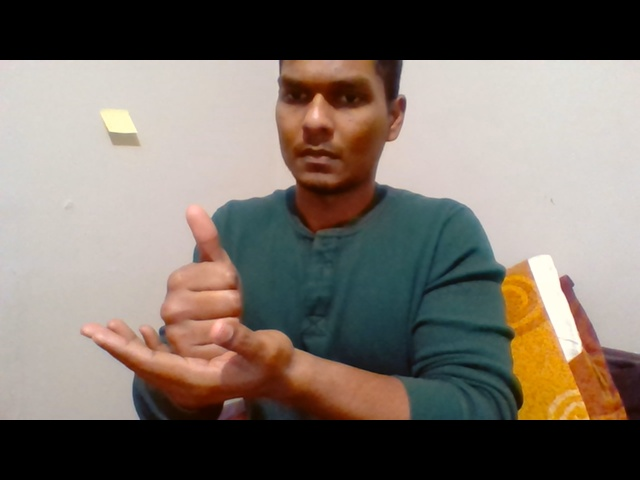Help: (77, 202, 299, 413)
